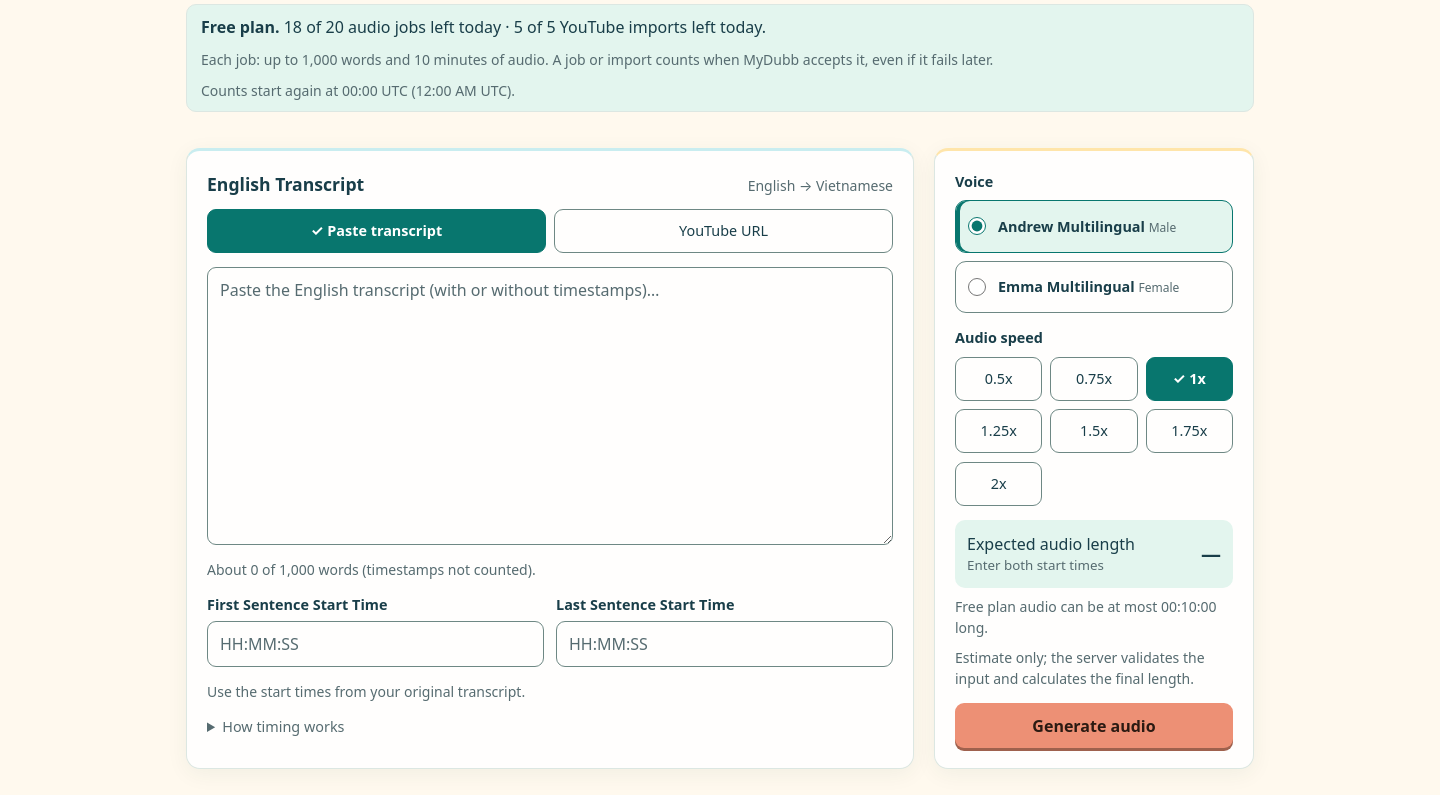
refreshing the numbers › server_at_capacity is shown as the server words it and sent once
The image size is (1440, 795).
(page scrolled)
Check: the element named "Your plan" is shown, box [186,4,1254,112]
Type "Hello world." into the text box labelled "English Transcript" at (550, 406), box [207,267,893,545]
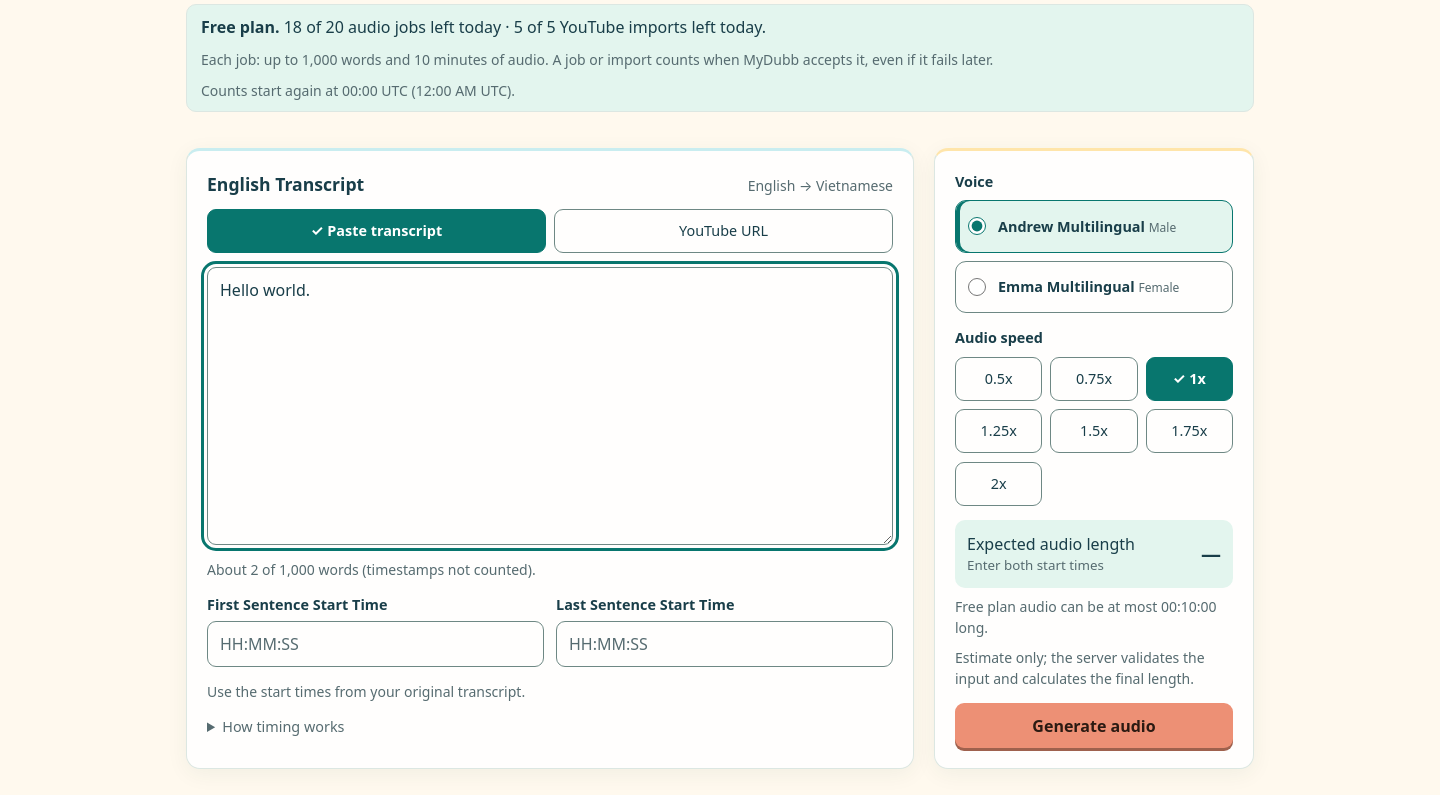
Type "000010" into the field labelled "First Sentence Start Time" at (376, 644), box [207,621,544,667]
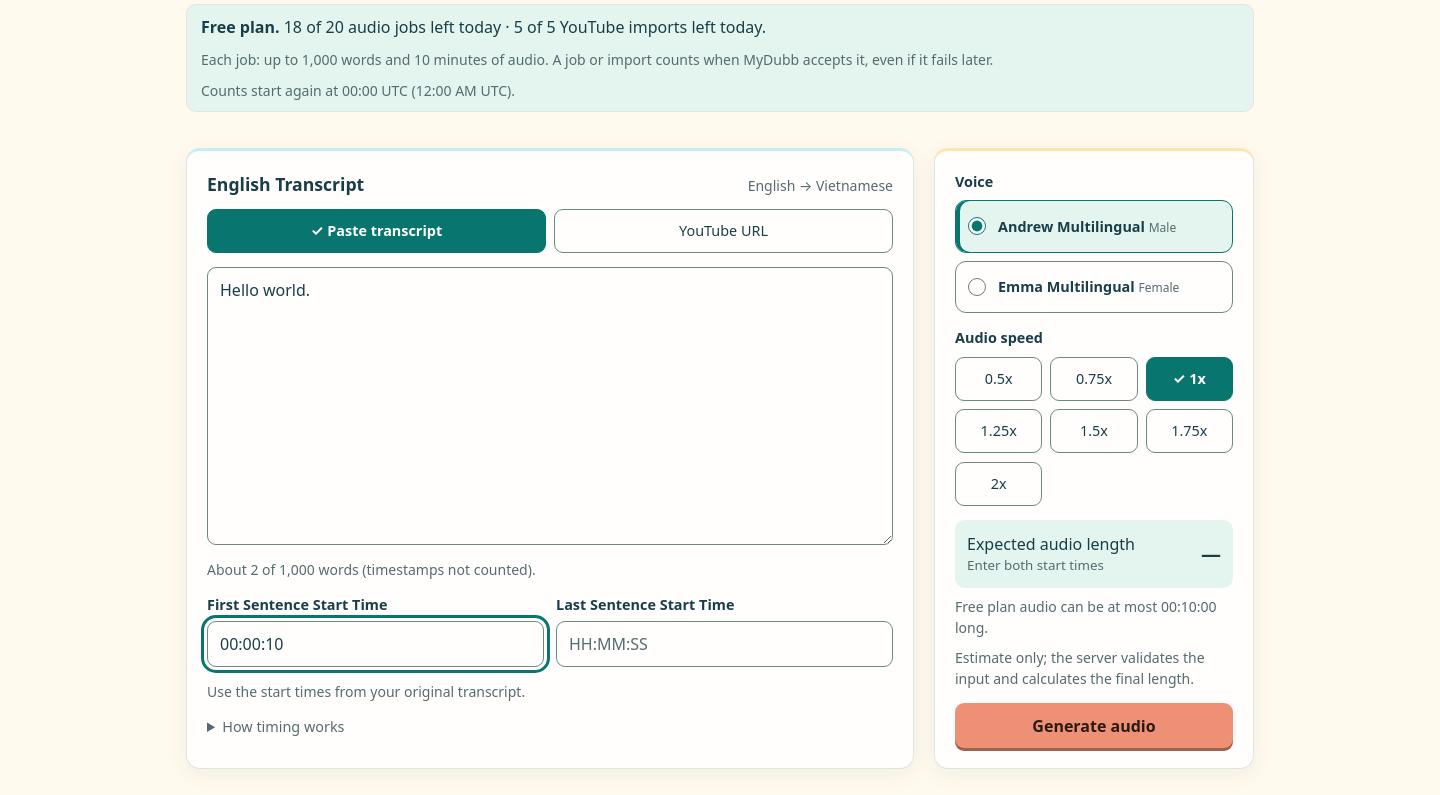
Type "000610" into the field labelled "Last Sentence Start Time" at (724, 644), box [556,621,893,667]
(page scrolled)
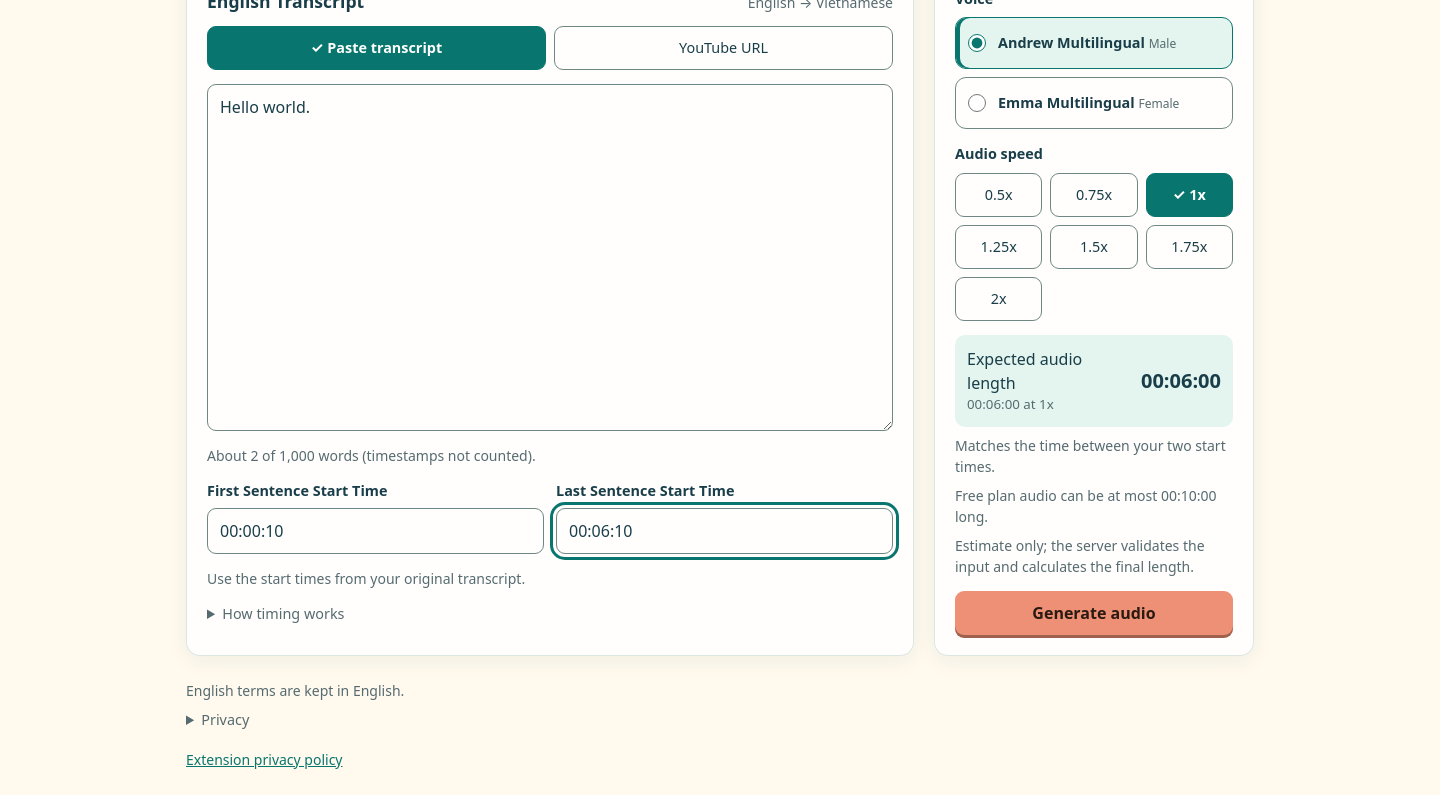
Click the button "Generate audio" at (1094, 613), box [955,591,1233,635]
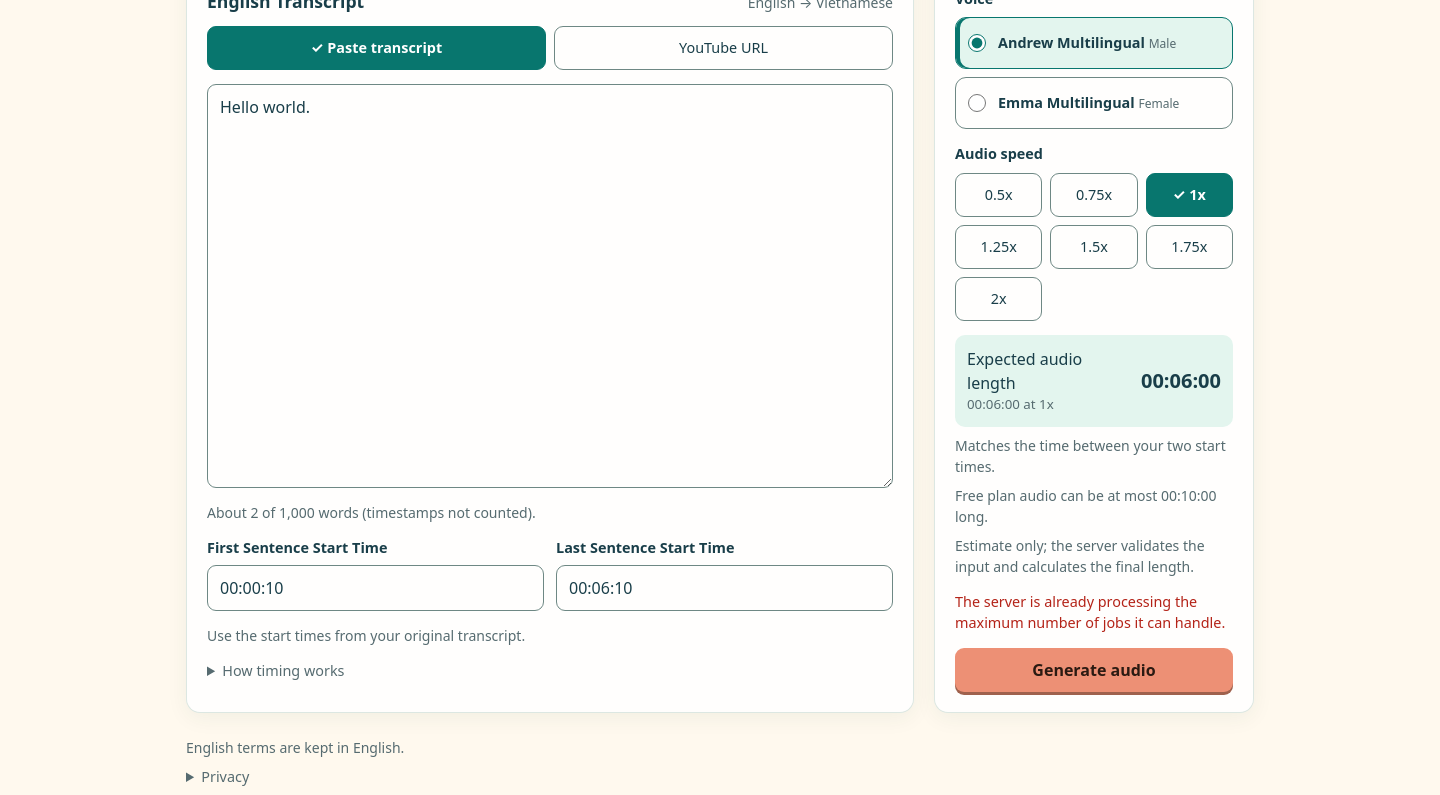
Check: the message reads "The server is already processing the maximum number of jobs it can handle.", box [955,592,1225,632]
